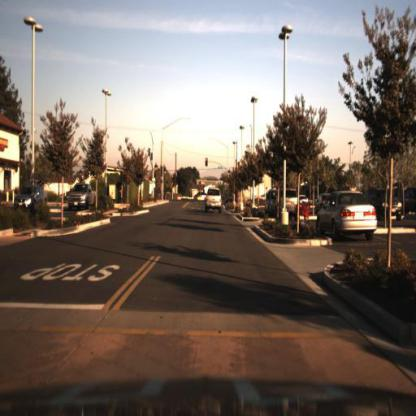car: (311, 186, 383, 244), (13, 180, 42, 214), (66, 182, 96, 210), (274, 187, 300, 217), (201, 188, 225, 214)
trafficLight-Red: (203, 154, 209, 166), (169, 171, 174, 181)
